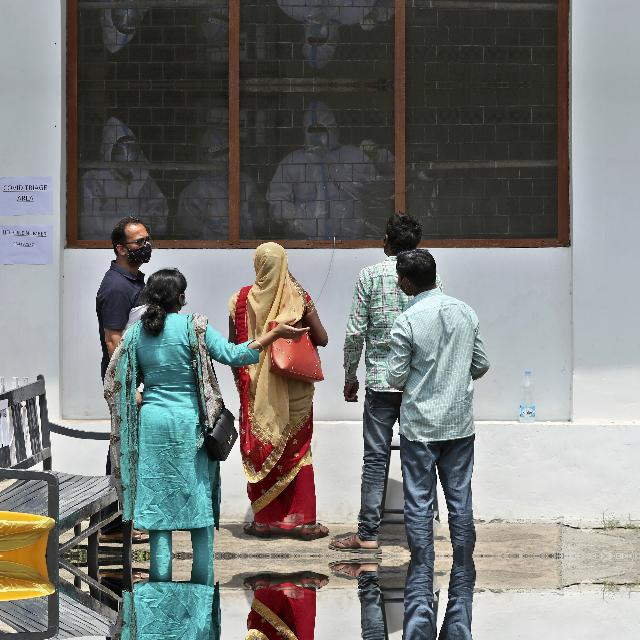person: (212, 236, 348, 548), (134, 264, 253, 550), (211, 562, 348, 640), (134, 559, 253, 640)
